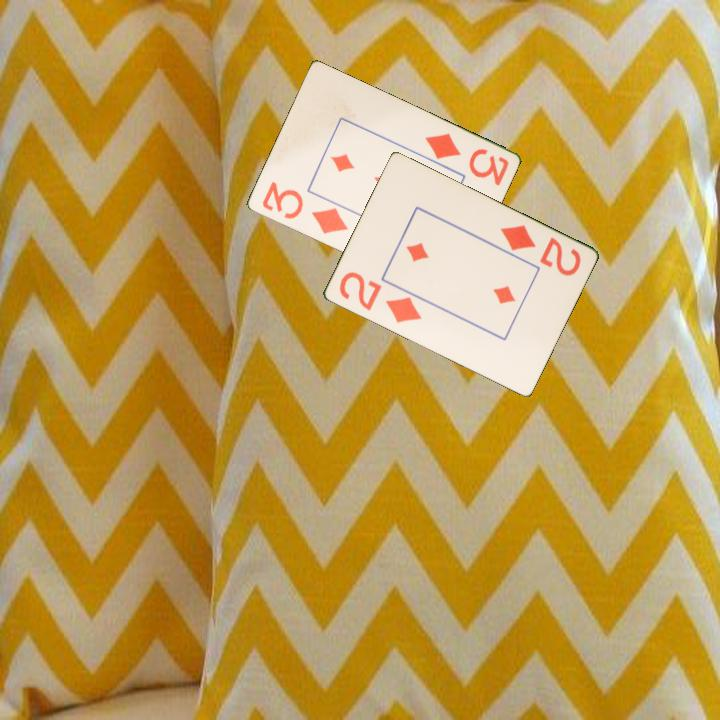2d: (335, 268, 424, 326), (497, 221, 584, 279)
3d: (258, 178, 351, 237), (421, 130, 511, 189)
